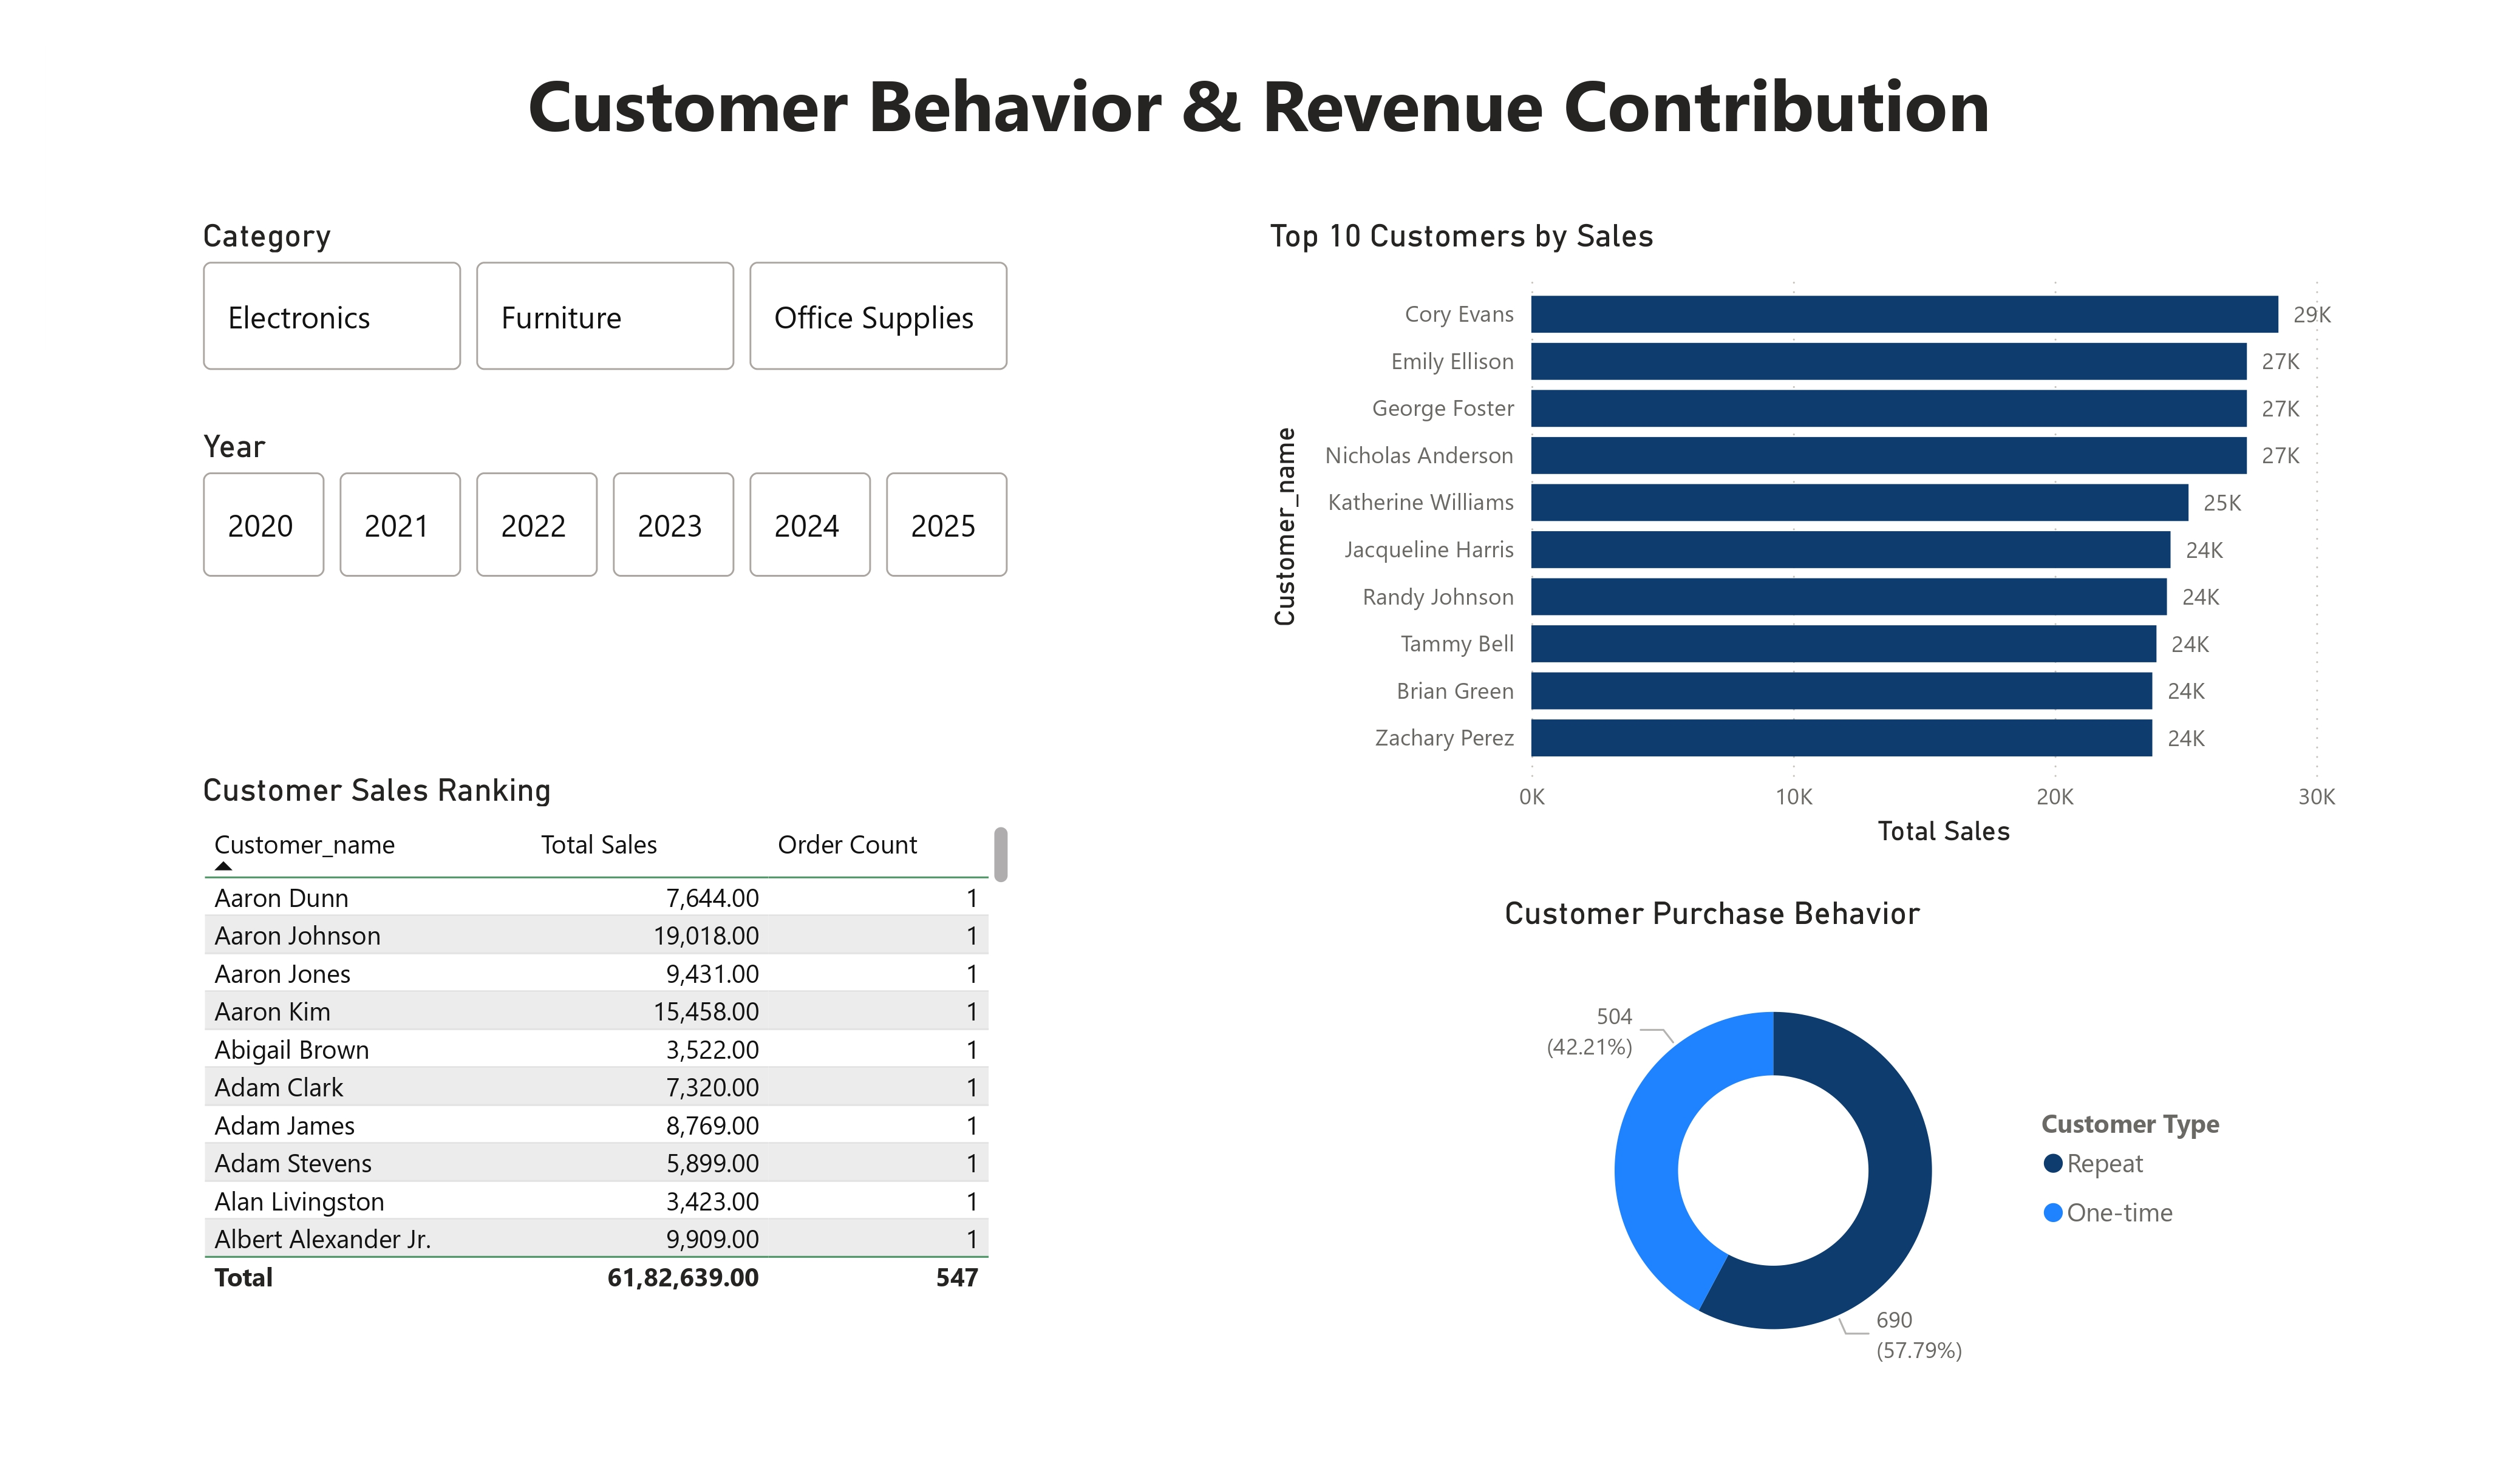

Layout of this report page (visuals, bound fields, positions):
{"tool":"powerbi","page":{"name":"Customer Analytics","canvas":[1280,720],"ordinal":3},"visuals":[{"type":"clusteredBarChart","title":"Top 10 Customers by Sales","fields":{"Category":["public retail_sales.customer_name"],"Y":["public retail_sales.Total Sales"]},"box":[640.1,90.3,592.7,336.8],"z":0},{"type":"donutChart","title":"Customer Purchase Behavior","fields":{"Y":["CountNonNull(public retail_sales.customer_name)"],"Category":["public retail_sales.Customer Type"]},"box":[764,446.8,404,273.2],"z":1000},{"type":"tableEx","title":"Customer Sales Ranking","fields":{"Values":["public retail_sales.customer_name","public retail_sales.Total Sales","public retail_sales.Order Count"]},"box":[77.6,382,435.2,281.3],"z":2000},{"type":"advancedSlicerVisual","fields":{"Values":["public retail_sales.category"]},"box":[77.6,90.3,435.2,85.7],"z":3000},{"type":"advancedSlicerVisual","fields":{"Values":["public retail_sales.order_date.Variation.Date Hierarchy.Year"]},"box":[77.6,201.4,435.2,83.3],"z":4000},{"type":"textbox","box":[0,0,1279.1,72.9],"z":5000}]}

Visuals, with their boxes on the page's 1280x720 design canvas (x1, y1, x2, y2). These are canvas units, not pixel positions in the 2520x1457 screenshot, which may show the page scaled, cropped or inside an application window:
"Top 10 Customers by Sales" clusteredBarChart: [x1=640, y1=90, x2=1233, y2=427]
"Customer Purchase Behavior" donutChart: [x1=764, y1=447, x2=1168, y2=720]
"Customer Sales Ranking" tableEx: [x1=78, y1=382, x2=513, y2=663]
advancedSlicerVisual - public retail_sales.category: [x1=78, y1=90, x2=513, y2=176]
advancedSlicerVisual - public retail_sales.order_date.Variation.Date Hierarchy.Year: [x1=78, y1=201, x2=513, y2=285]
textbox: [x1=0, y1=0, x2=1279, y2=73]
